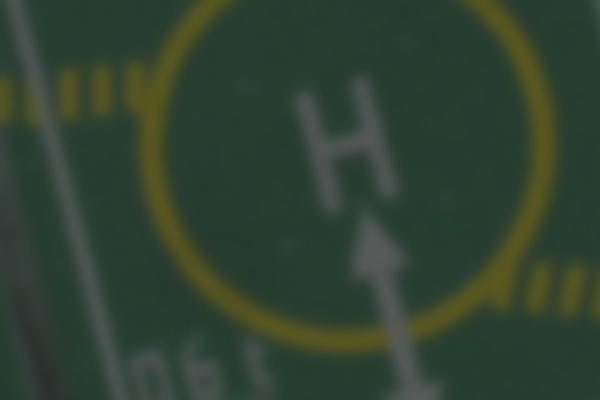Apron: (218, 16, 505, 331)
